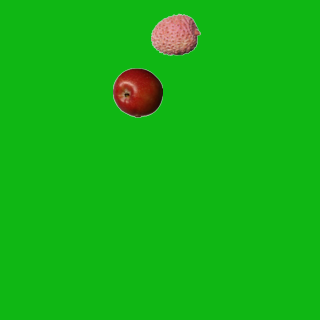Apple Braeburn: (112, 67, 162, 117)
Lychee: (150, 9, 200, 59)
